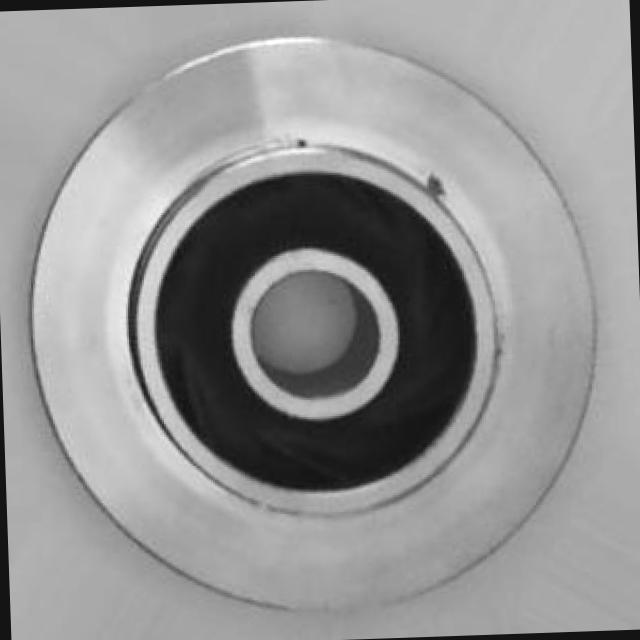Defect: (422, 166, 456, 208)
